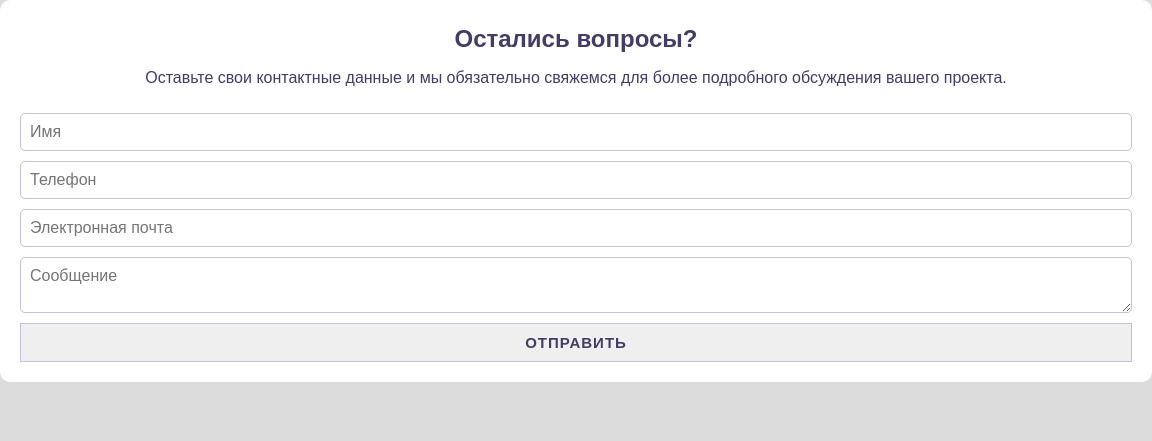
Test: Contacts Page Form › Submitting form states ui › loading and error › error
Click the button "ОТПРАВИТЬ": (576, 342) [20,323,1132,362]
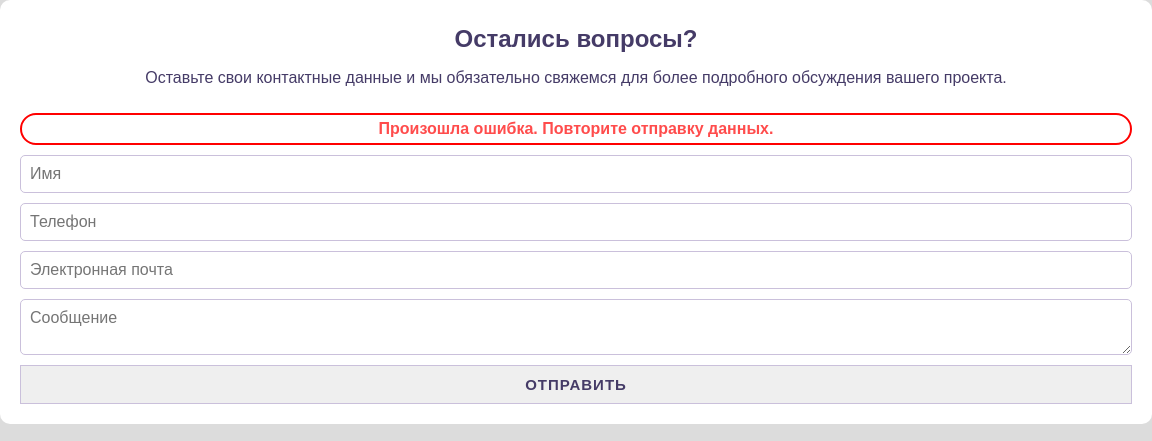
Result: the text "Произошла ошибка. Повторите отправку данных." is shown at [20,113,1132,145]
